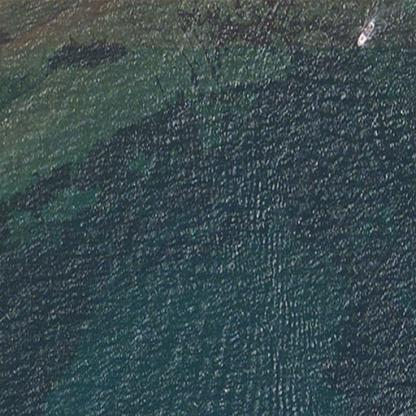ship: (354, 14, 378, 50)
